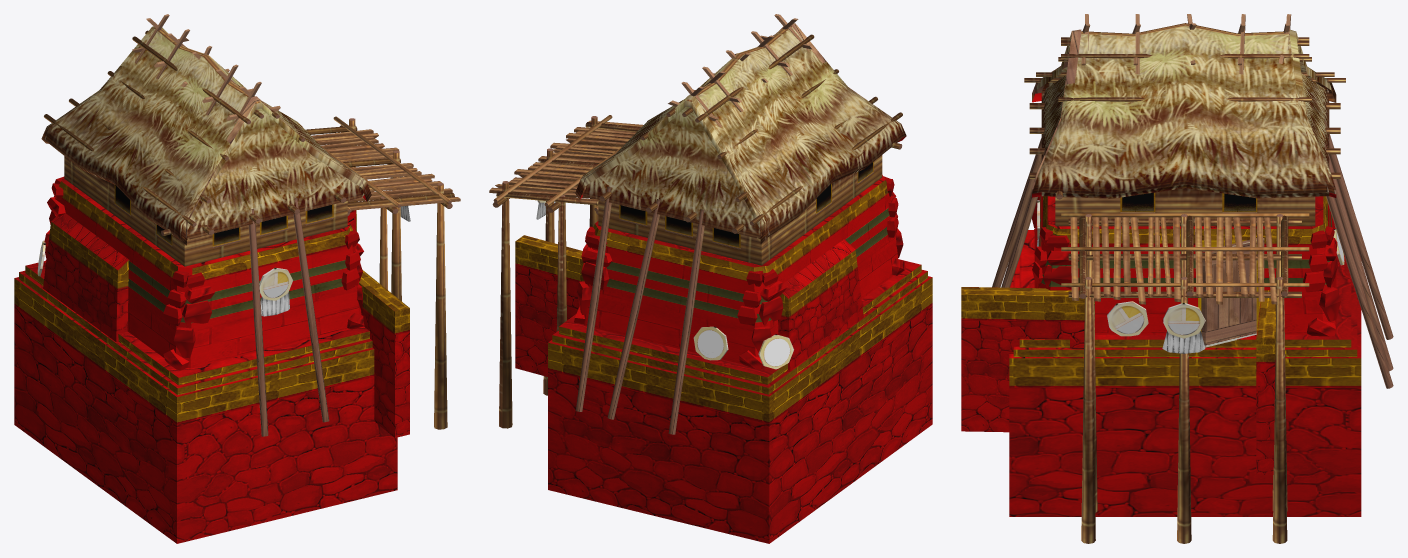
Rendered from zapo_house_b.dae.
The picture shows the model from 3 angles, left to right: view 1: azimuth 30°, elevation 25°; view 2: azimuth 150°, elevation 25°; view 3: azimuth 270°, elevation 25°; orthographic projection. The views are drawn at different scales.
Parts seen in each view (by area): view 1: HouseB; view 2: HouseB; view 3: HouseB.
Part boxes in pixels (<box>): HouseB: <box>14,14,460,543</box>; HouseB: <box>489,14,932,543</box>; HouseB: <box>961,14,1393,543</box>.
Bounding box in the file's own units: 13.97 × 15.18 × 17.01.
